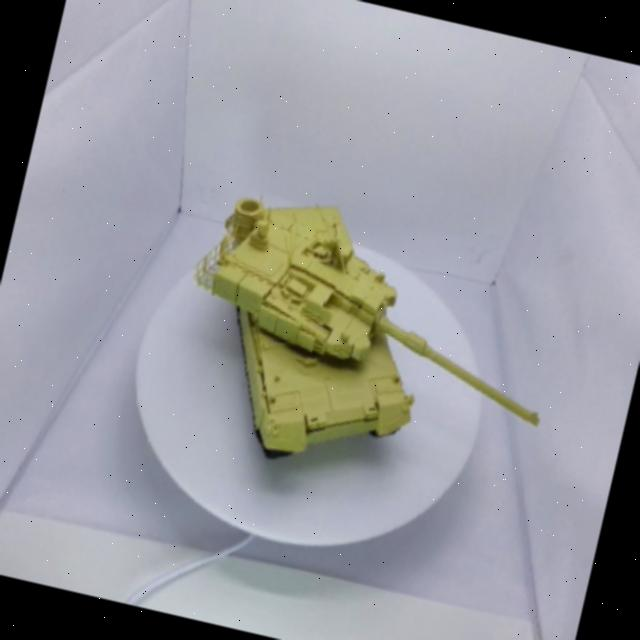korea tank: (139, 149, 592, 542)
